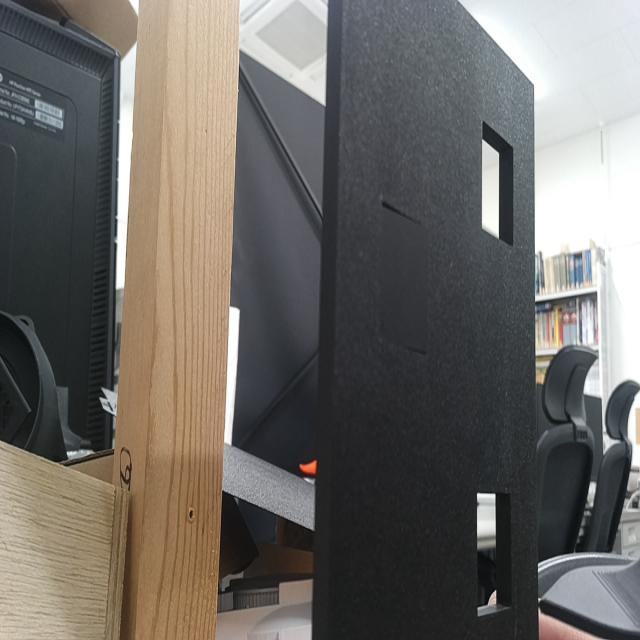Obstacle: (477, 493, 513, 612), (481, 119, 514, 247)
Wall: (331, 0, 539, 639)
